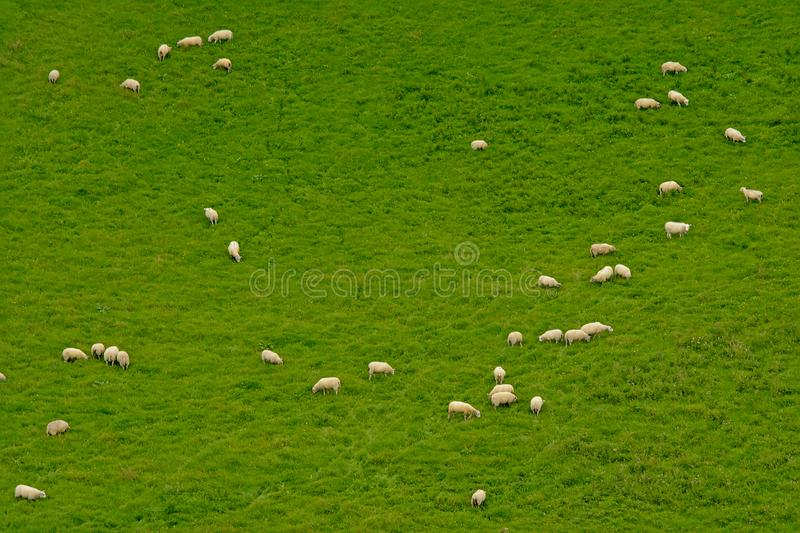sheep: (12, 480, 47, 505), (446, 401, 481, 424), (41, 419, 74, 440), (367, 360, 396, 383), (310, 376, 341, 396), (738, 185, 766, 207), (665, 219, 690, 240), (61, 346, 88, 365), (724, 125, 748, 146), (258, 350, 285, 368), (588, 241, 616, 258), (586, 266, 613, 283), (536, 328, 563, 345), (633, 98, 663, 113), (566, 330, 591, 348), (209, 28, 235, 45), (669, 88, 692, 107), (489, 392, 518, 407), (661, 62, 688, 78), (583, 322, 613, 336), (176, 35, 203, 50), (660, 180, 683, 197), (527, 395, 543, 419), (227, 241, 244, 263), (470, 487, 487, 508), (536, 274, 561, 288), (212, 57, 233, 73), (119, 78, 141, 93), (203, 206, 220, 225), (614, 265, 633, 282), (492, 365, 508, 385), (103, 344, 118, 365), (157, 41, 171, 62), (90, 343, 104, 362), (118, 350, 131, 370), (508, 331, 524, 346), (472, 139, 488, 153), (48, 68, 61, 83)
